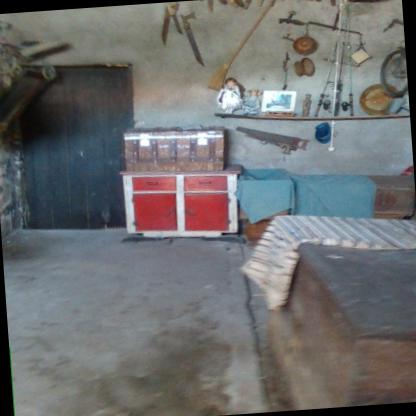closed: (11, 54, 163, 242)
